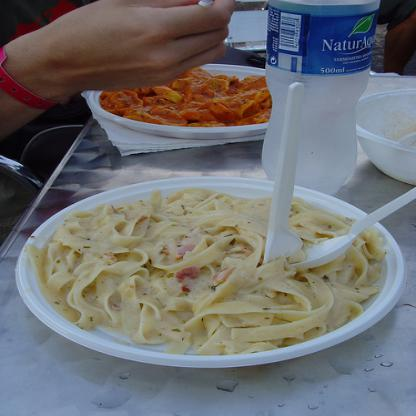bottle: (264, 0, 382, 196)
diningtable: (0, 71, 415, 415)
